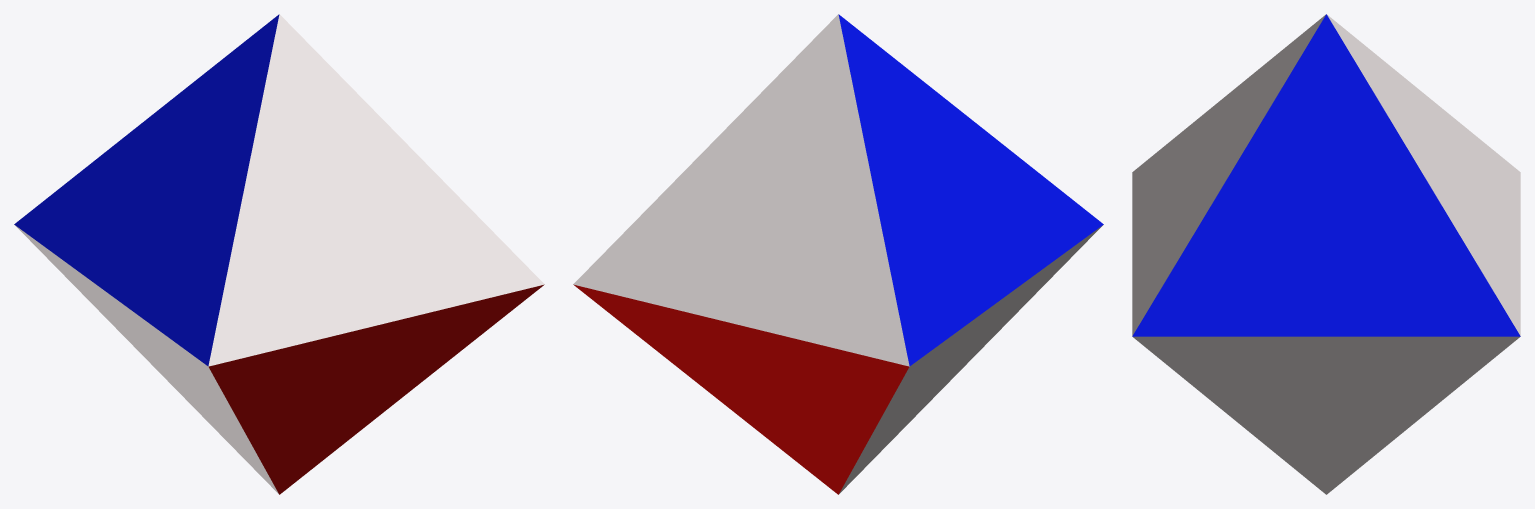
Rendered from Diamond_1.fbx.
3 views of the same model, side by side, from view 1: azimuth 30°, elevation 25°; view 2: azimuth 150°, elevation 25°; view 3: azimuth 270°, elevation 25° (orthographic).
Parts seen in each view (by area): view 1: Diamond_1; view 2: Diamond_1; view 3: Diamond_1.
Boxes of the visible parts, x1,y1,x2,y2 form: Diamond_1: (14, 14, 544, 494); Diamond_1: (573, 14, 1103, 494); Diamond_1: (1132, 14, 1520, 494).
Size of the model in its own units: 2 by 2.73 by 2.
